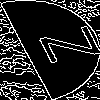Z: (25, 25, 100, 69)
